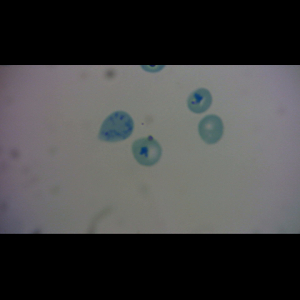aggregate reticulocyte: (96, 110, 134, 143)
erythrocyte: (131, 136, 163, 167), (198, 114, 224, 145), (186, 87, 214, 114)
